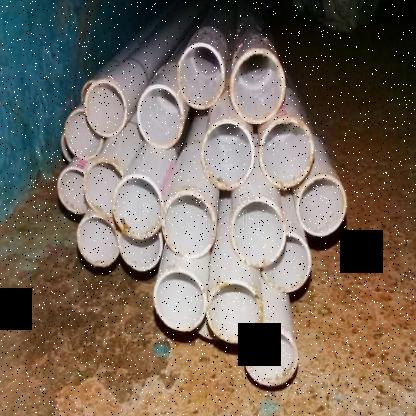pipe: (229, 49, 285, 124), (230, 197, 286, 267), (259, 117, 314, 188), (201, 118, 255, 190), (162, 190, 216, 259), (206, 280, 263, 343), (153, 268, 207, 331), (112, 175, 164, 239), (296, 175, 346, 237), (262, 231, 312, 293), (244, 329, 298, 386), (137, 84, 184, 149), (178, 43, 224, 109), (84, 79, 126, 138), (83, 159, 122, 218), (76, 216, 119, 267), (118, 228, 164, 272), (65, 108, 103, 158), (58, 167, 90, 214)
